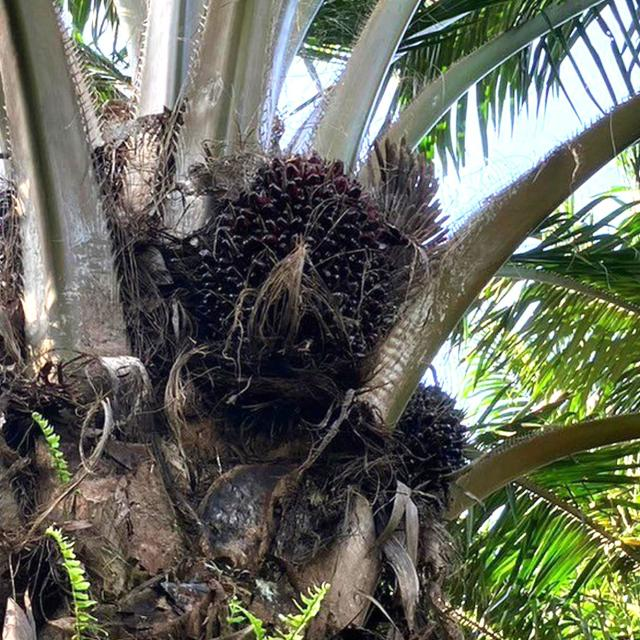ripe: (170, 149, 417, 422)
